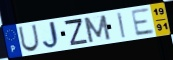E: (130, 7, 156, 37)
I: (116, 11, 127, 39)
J: (42, 20, 63, 51)
M: (82, 14, 112, 44)
U: (17, 24, 40, 53)
Z: (63, 18, 90, 47)
